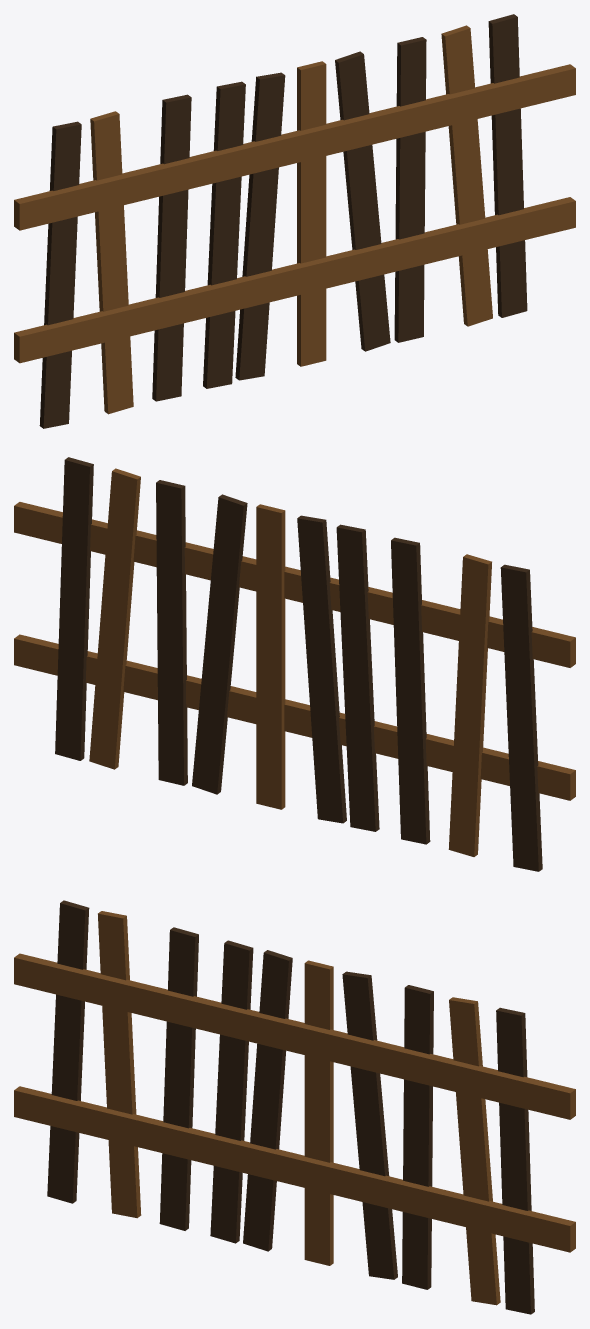
Rendered from fence.fbx.
3 views of the same model, one above another, from view 1: azimuth 30°, elevation 25°; view 2: azimuth 150°, elevation 25°; view 3: azimuth 330°, elevation 25° (orthographic).
Visible parts, largest first — view 1: Cube.027; view 2: Cube.027; view 3: Cube.027.
Boxes of the visible parts, left/top/right/bottom form: Cube.027: left=14, top=14, right=575, bottom=428; Cube.027: left=14, top=457, right=575, bottom=871; Cube.027: left=14, top=900, right=575, bottom=1314.
Bounding box in the file's own units: 652 × 334 × 17.27.
